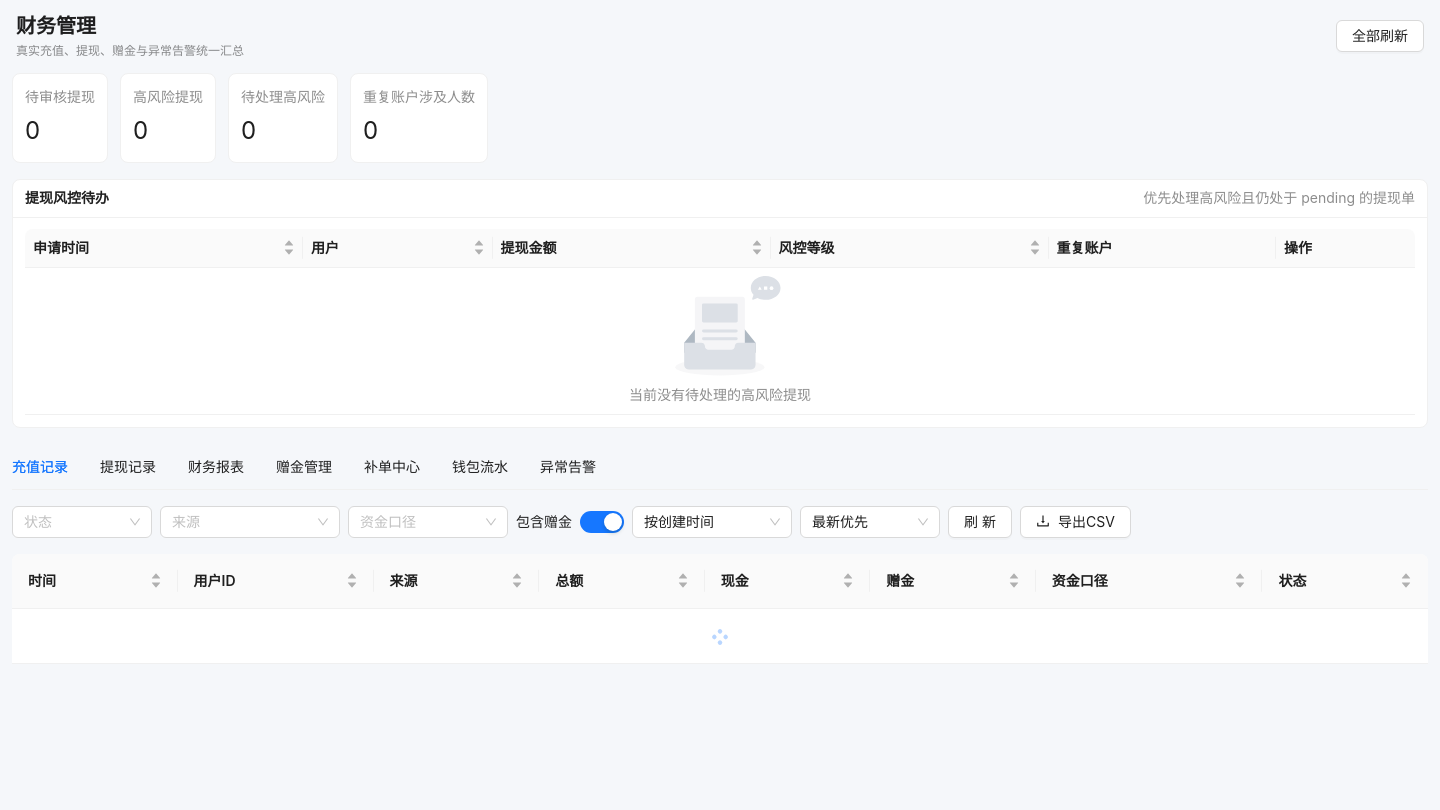
Test: FinancePage › loads wallet ledgers from the real finance endpoint
Click the tab "钱包流水" at x=480, y=466, box [452, 456, 508, 478]
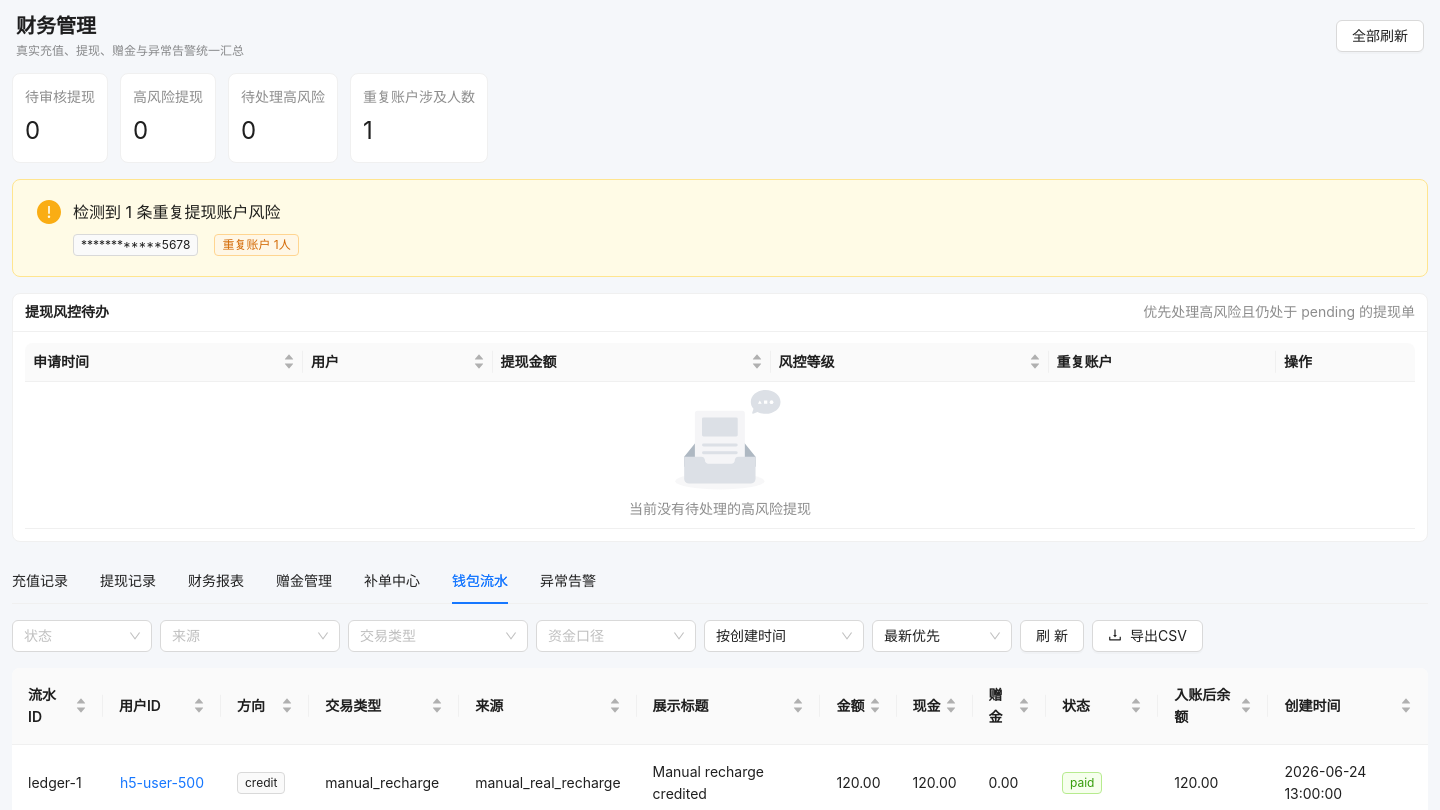
Expected: the text "ledger-1" is shown, [12, 745, 103, 809]
Expected: the text "h5-user-500" is shown 2 times
Expected: the text "manual_recharge" is shown, [309, 745, 459, 809]
